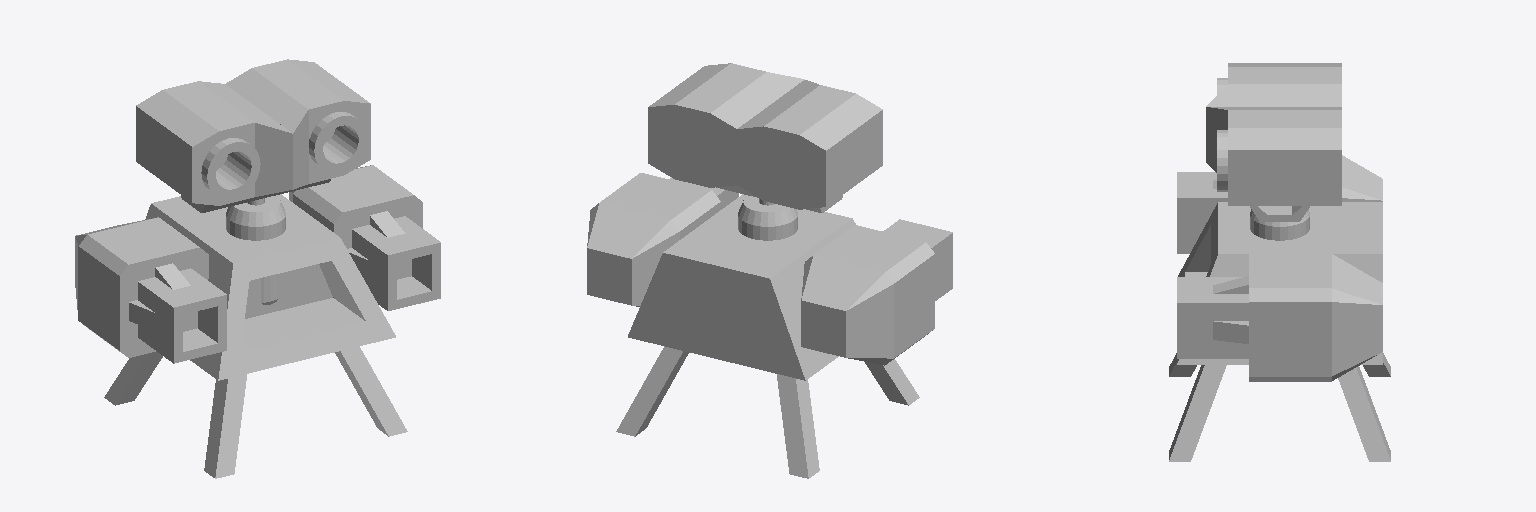
The model's file is walking_01_00.obj.
3 renders of one model, left to right at view 1: azimuth 30°, elevation 25°; view 2: azimuth 150°, elevation 25°; view 3: azimuth 270°, elevation 25°, orthographic.
Visible parts, largest first — view 1: mergedBlocks; view 2: mergedBlocks; view 3: mergedBlocks.
Part boxes in pixels (x1,y1,x2,y2): mergedBlocks: (75,59,440,478); mergedBlocks: (587,63,952,478); mergedBlocks: (1169,63,1390,461).
Bounding box in the file's own units: 1.7 × 1.7 × 1.08.